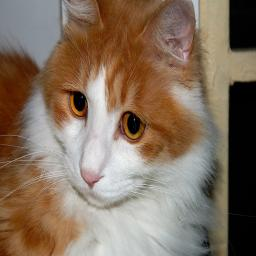catnose: (77, 162, 106, 191)
